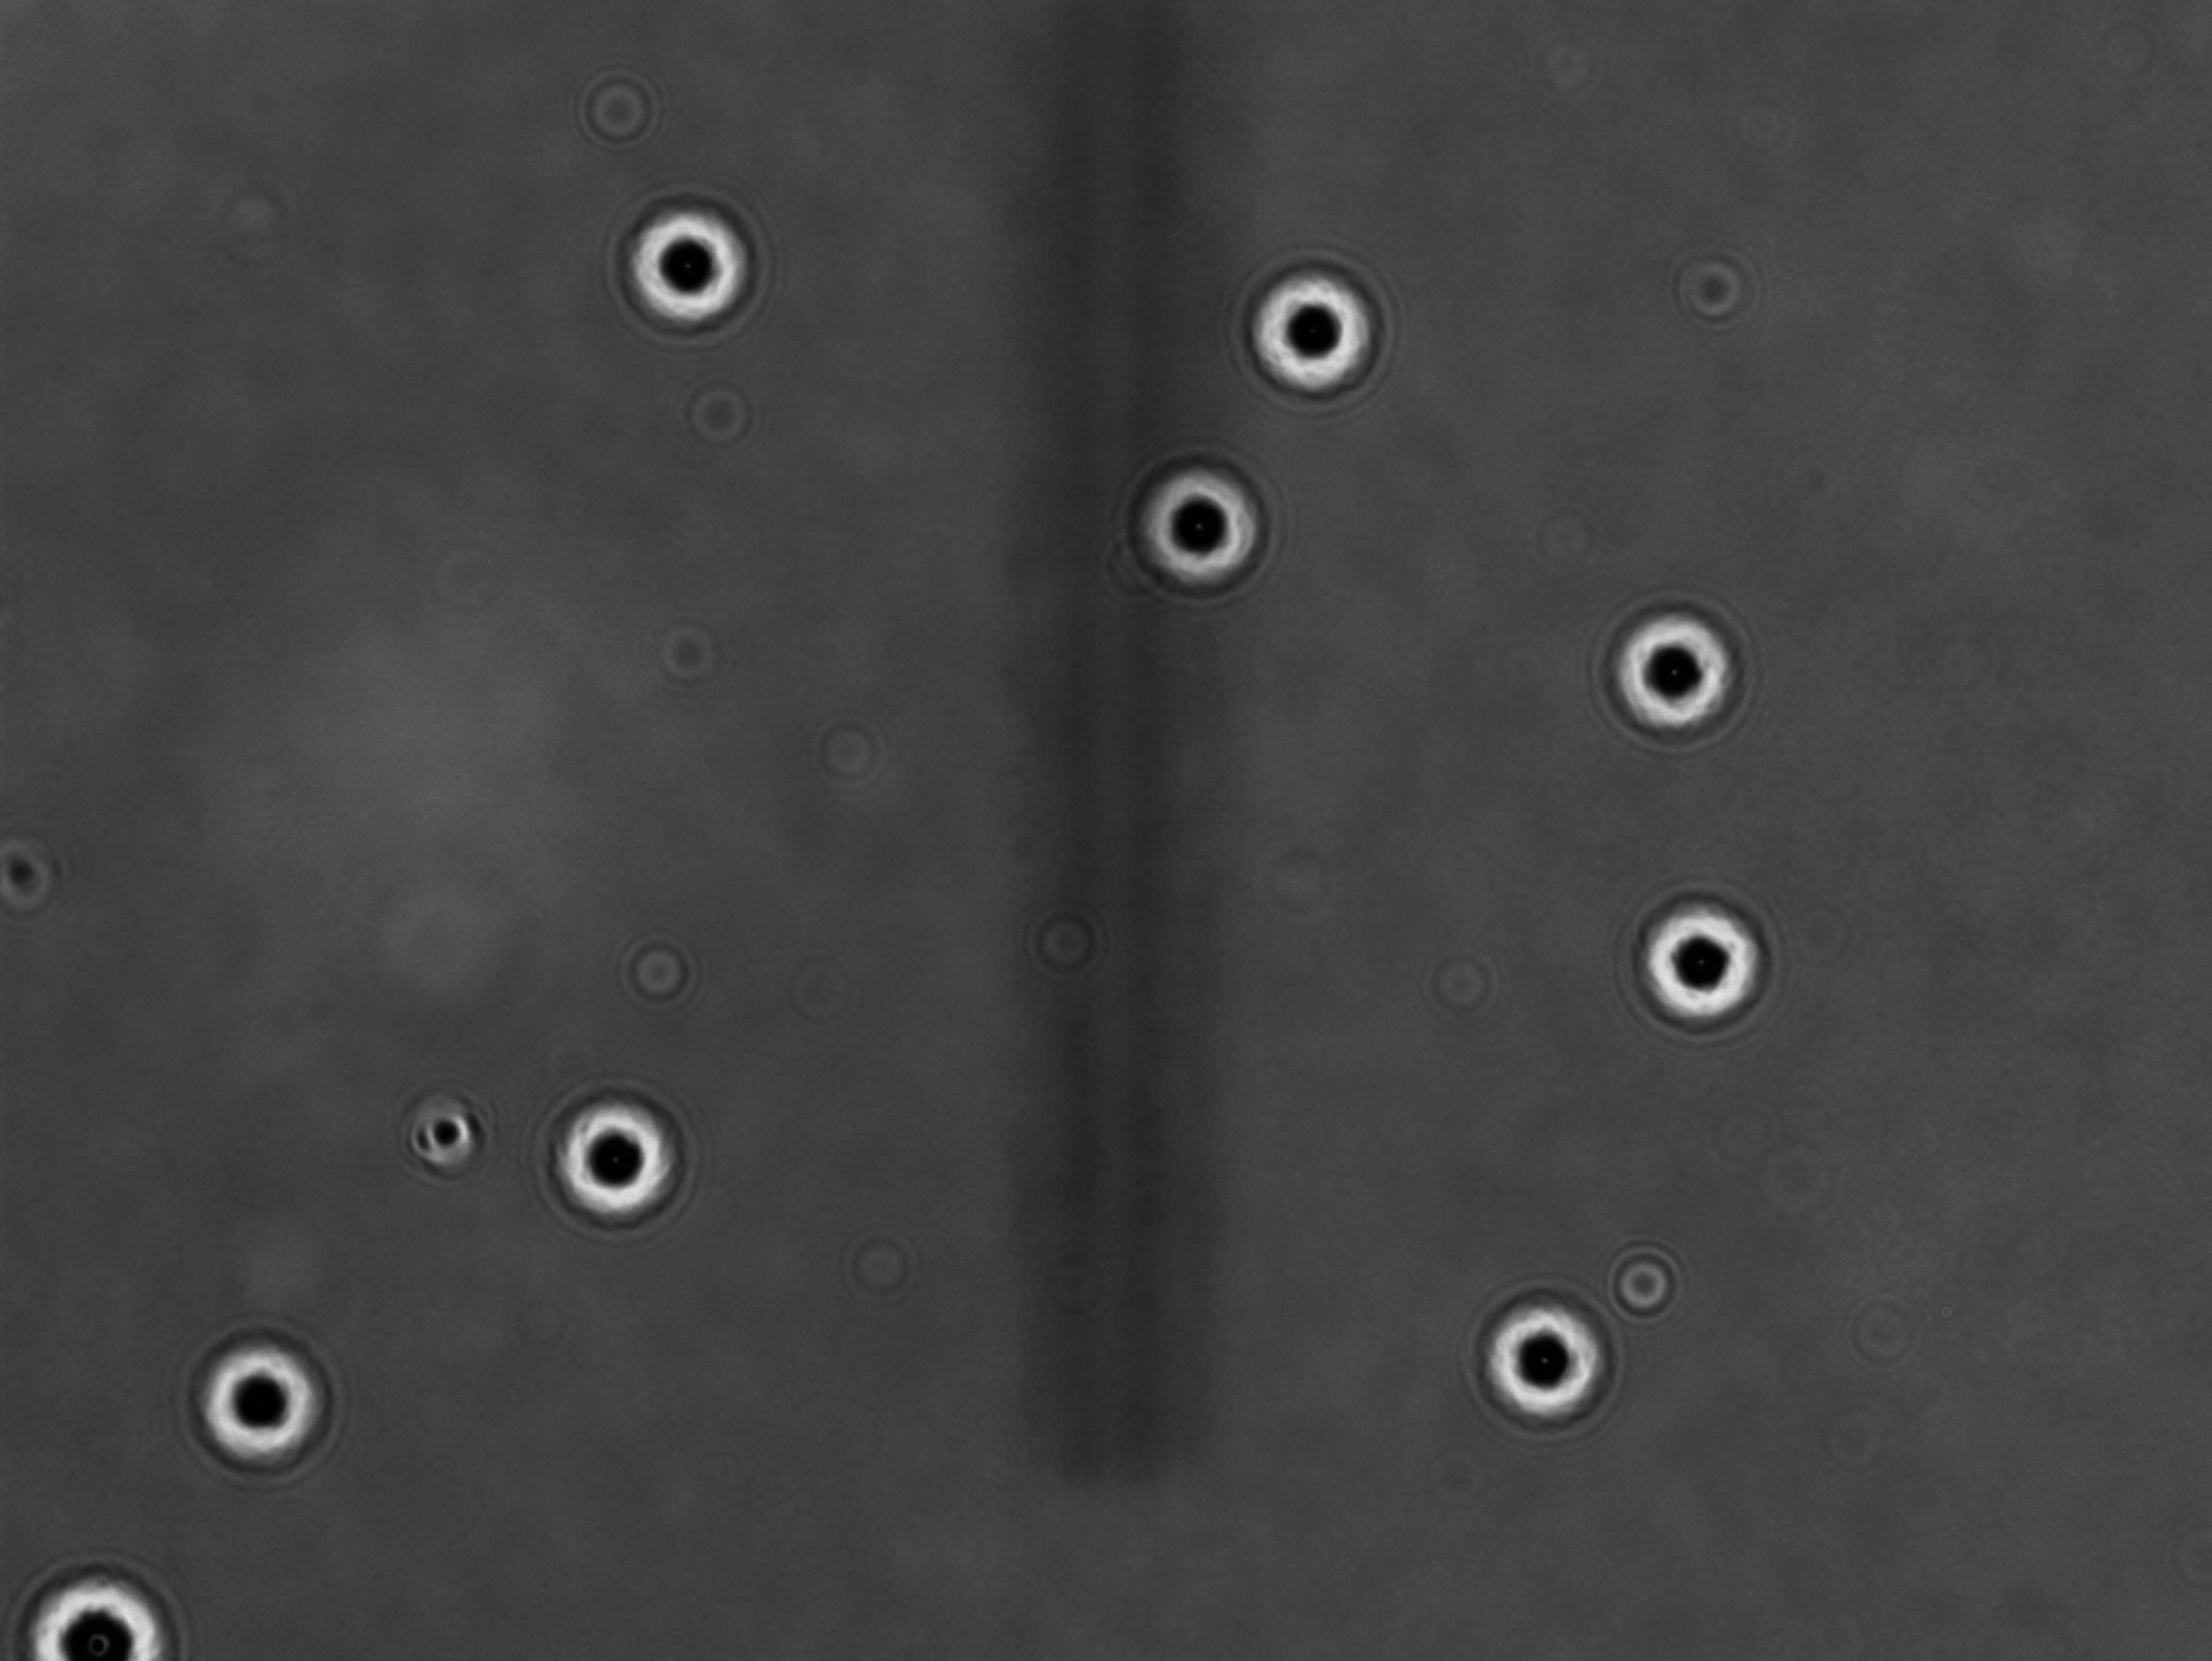depth:-20: (1457, 1272, 1626, 1436), (1589, 590, 1751, 754), (604, 183, 761, 345), (185, 1319, 340, 1483), (1621, 883, 1783, 1038), (1118, 448, 1282, 598), (1239, 249, 1392, 405), (539, 1078, 691, 1234), (5, 1548, 185, 1661)
